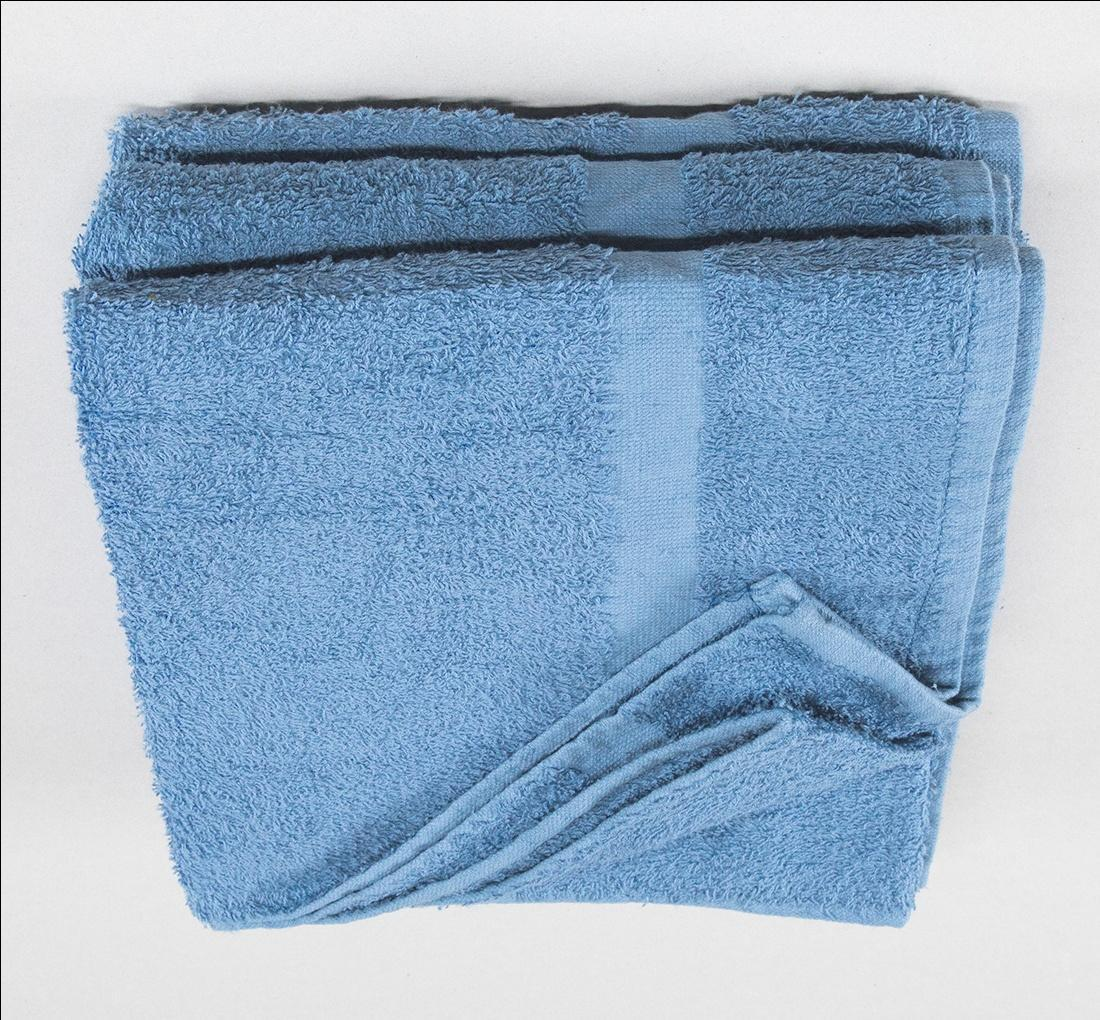towel: (57, 98, 1052, 992)
